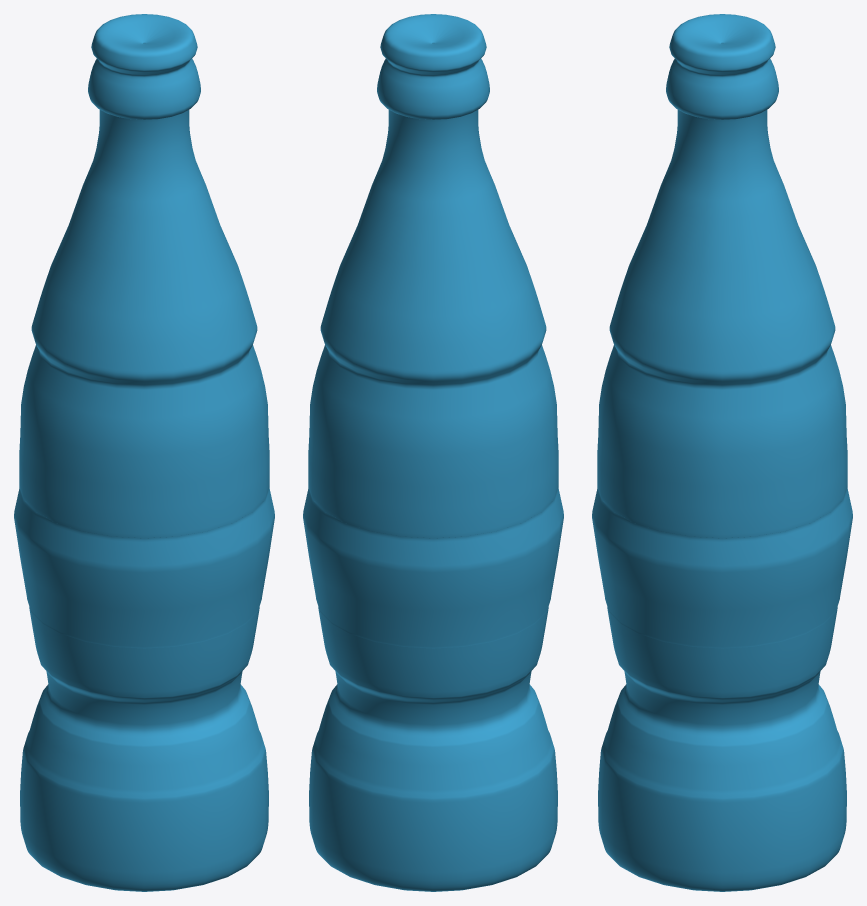
Rendered from bottle.dae.
3 renders of one model, left to right at view 1: azimuth 30°, elevation 25°; view 2: azimuth 150°, elevation 25°; view 3: azimuth 270°, elevation 25°, orthographic.
Visible parts, largest first — view 1: Coke_Bottle; view 2: Coke_Bottle; view 3: Coke_Bottle.
Part boxes in pixels (x1,y1,x2,y2): Coke_Bottle: [14, 14, 274, 891]; Coke_Bottle: [303, 14, 563, 891]; Coke_Bottle: [592, 14, 852, 891].
Bounding box in the file's own units: 195 × 682 × 195.
